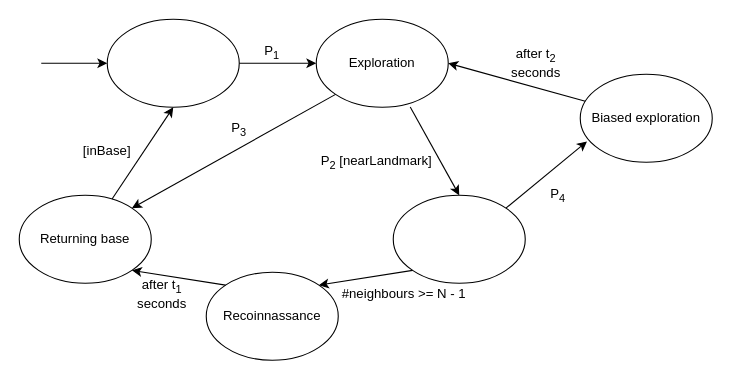
Some shapes in this 732 by 380 pixel diagram are drawn without their labels. The centre of each missing label's shape, as x and y in pixels:
Resting: the point at 172,62
Waiting for cluster to complete: the point at 458,238
